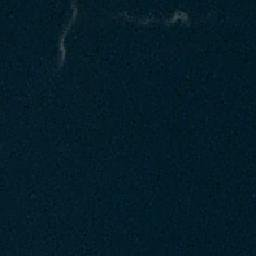debris: (56, 31, 71, 67), (166, 8, 192, 27), (64, 1, 79, 28)
